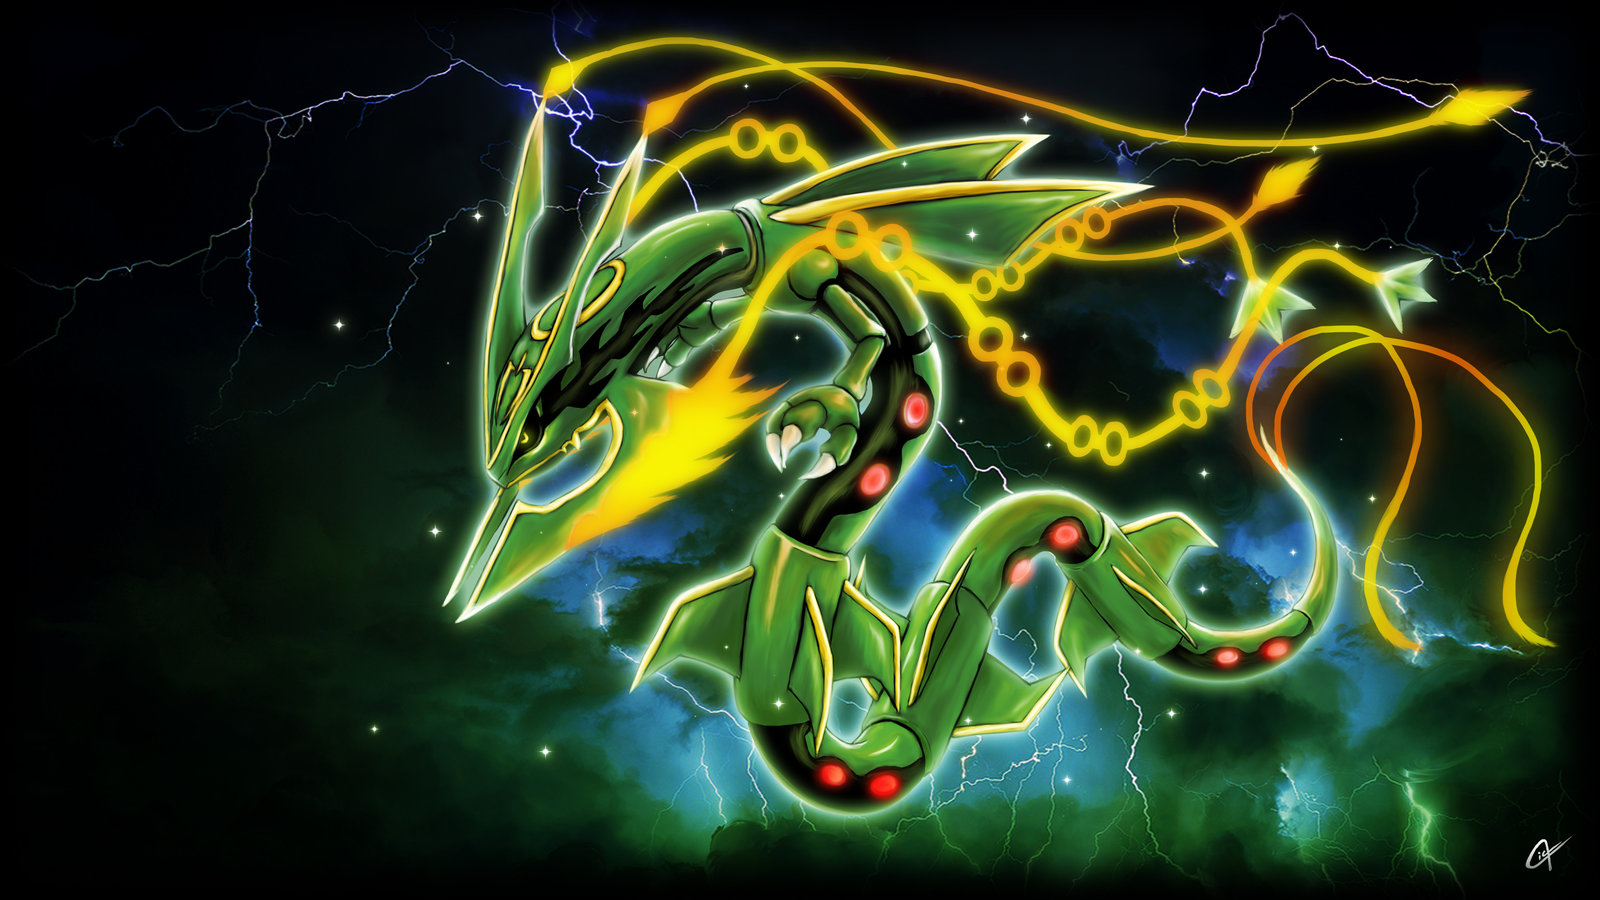rayquaza: (373, 22, 1600, 838)
